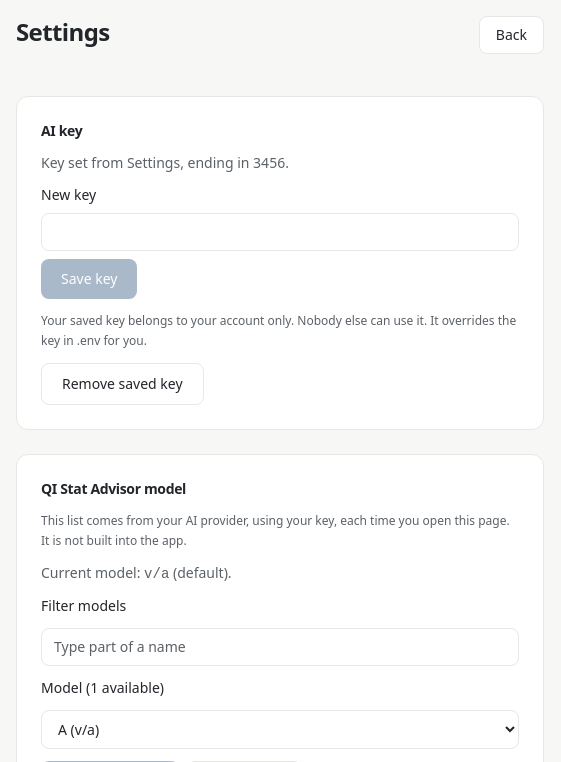
Test case: Settings › shows the key masked with source and last4, and saves a new key without echoing it
Check: the text "Key set from Settings, ending in 3456." is shown, box [41, 153, 289, 172]
Step 1. Type "sk-or-v1-secretwxyz" into the password field labelled "New key" → [280, 232], box [41, 213, 519, 251]
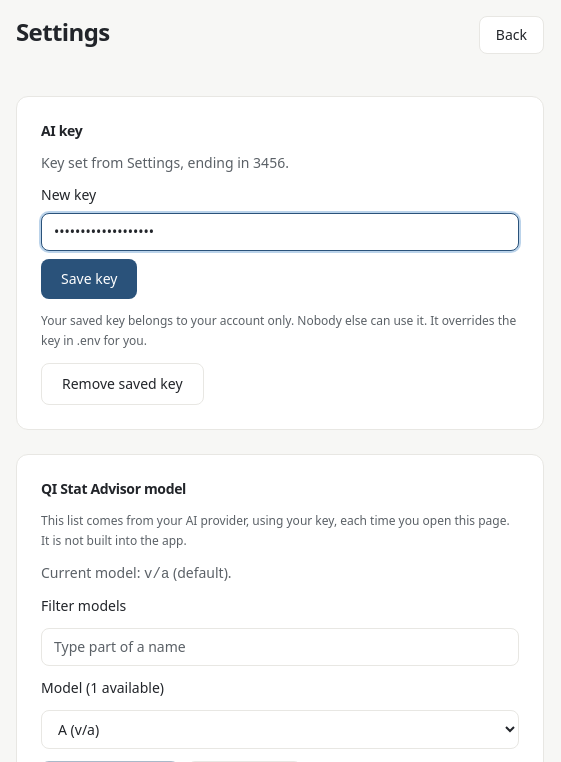
Step 2. Click the button "Save key" → [89, 279], box [41, 259, 137, 299]
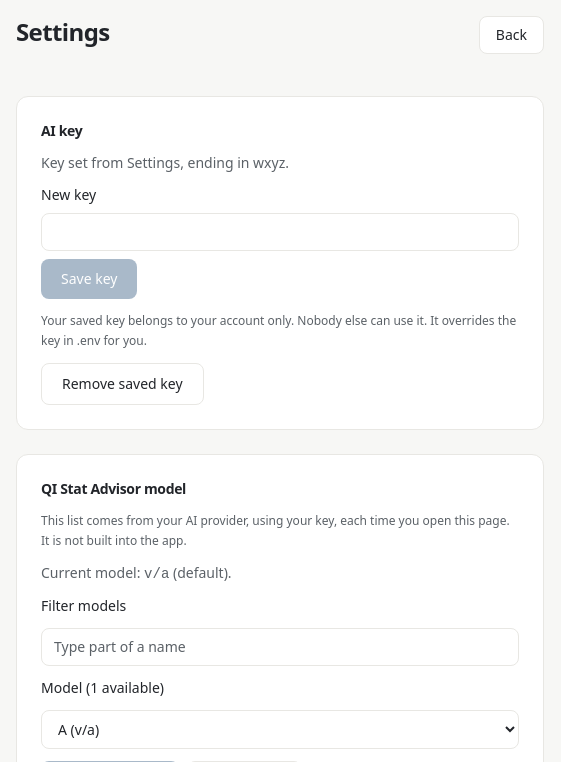
Check: the text "belongs to your account only" is shown, box [41, 312, 516, 349]
Check: the text "Key set from Settings, ending in wxyz." is shown, box [41, 153, 289, 172]
Check: the password field labelled "New key" is empty, box [41, 213, 519, 251]
